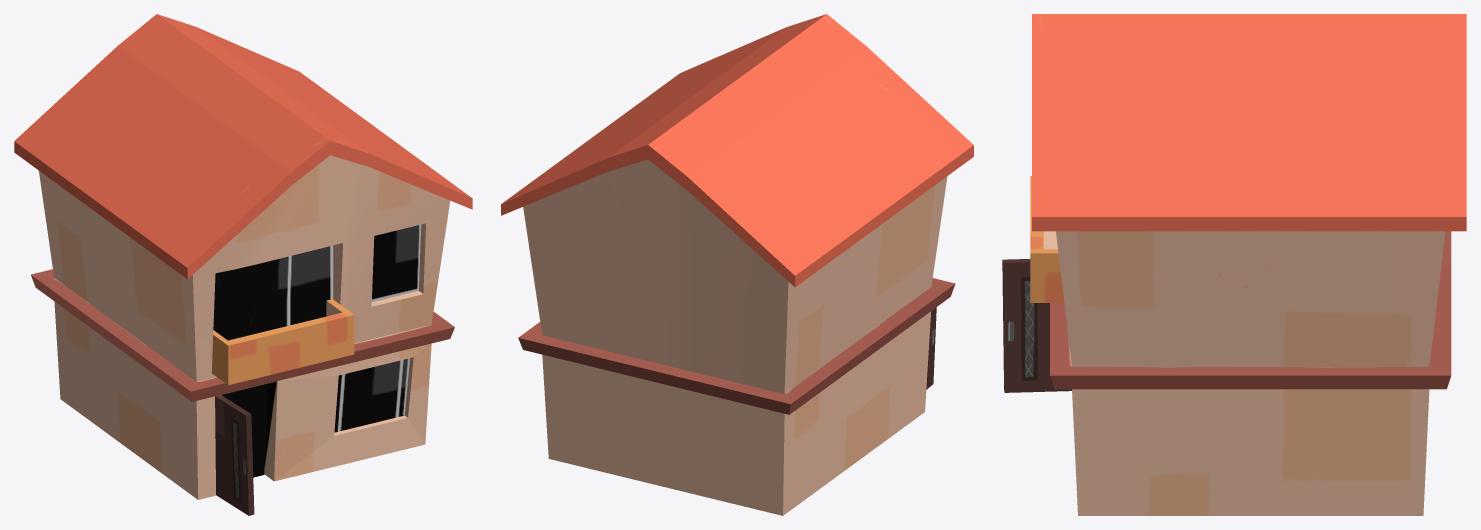
File: main_house.fbx
The picture shows the model from 3 angles, left to right: view 1: azimuth 30°, elevation 25°; view 2: azimuth 150°, elevation 25°; view 3: azimuth 270°, elevation 25°; orthographic projection. The views are drawn at different scales.
Parts seen in each view (by area): view 1: Main_house_door, Main_house; view 2: Main_house_door; view 3: Main_house_door, Main_house.
Boxes of the visible parts, bbox=[...] form: Main_house_door: bbox=[14, 14, 472, 499]; Main_house: bbox=[215, 395, 254, 515]; Main_house_door: bbox=[501, 14, 973, 515]; Main_house_door: bbox=[1030, 14, 1466, 515]; Main_house: bbox=[1002, 259, 1071, 392].
Size of the model in its own units: 22 by 25.42 by 24.73.
1 material, 1 textured.
